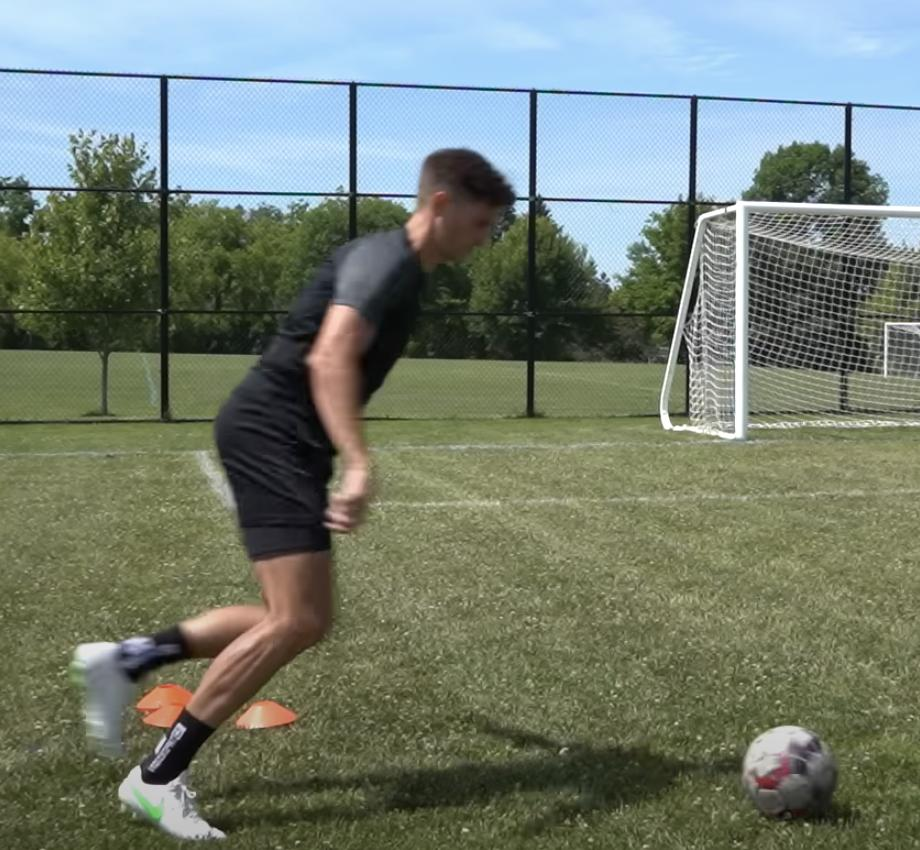ball: (740, 727, 836, 816)
foot: (118, 767, 227, 843), (71, 643, 132, 759)
person: (71, 145, 507, 842)
